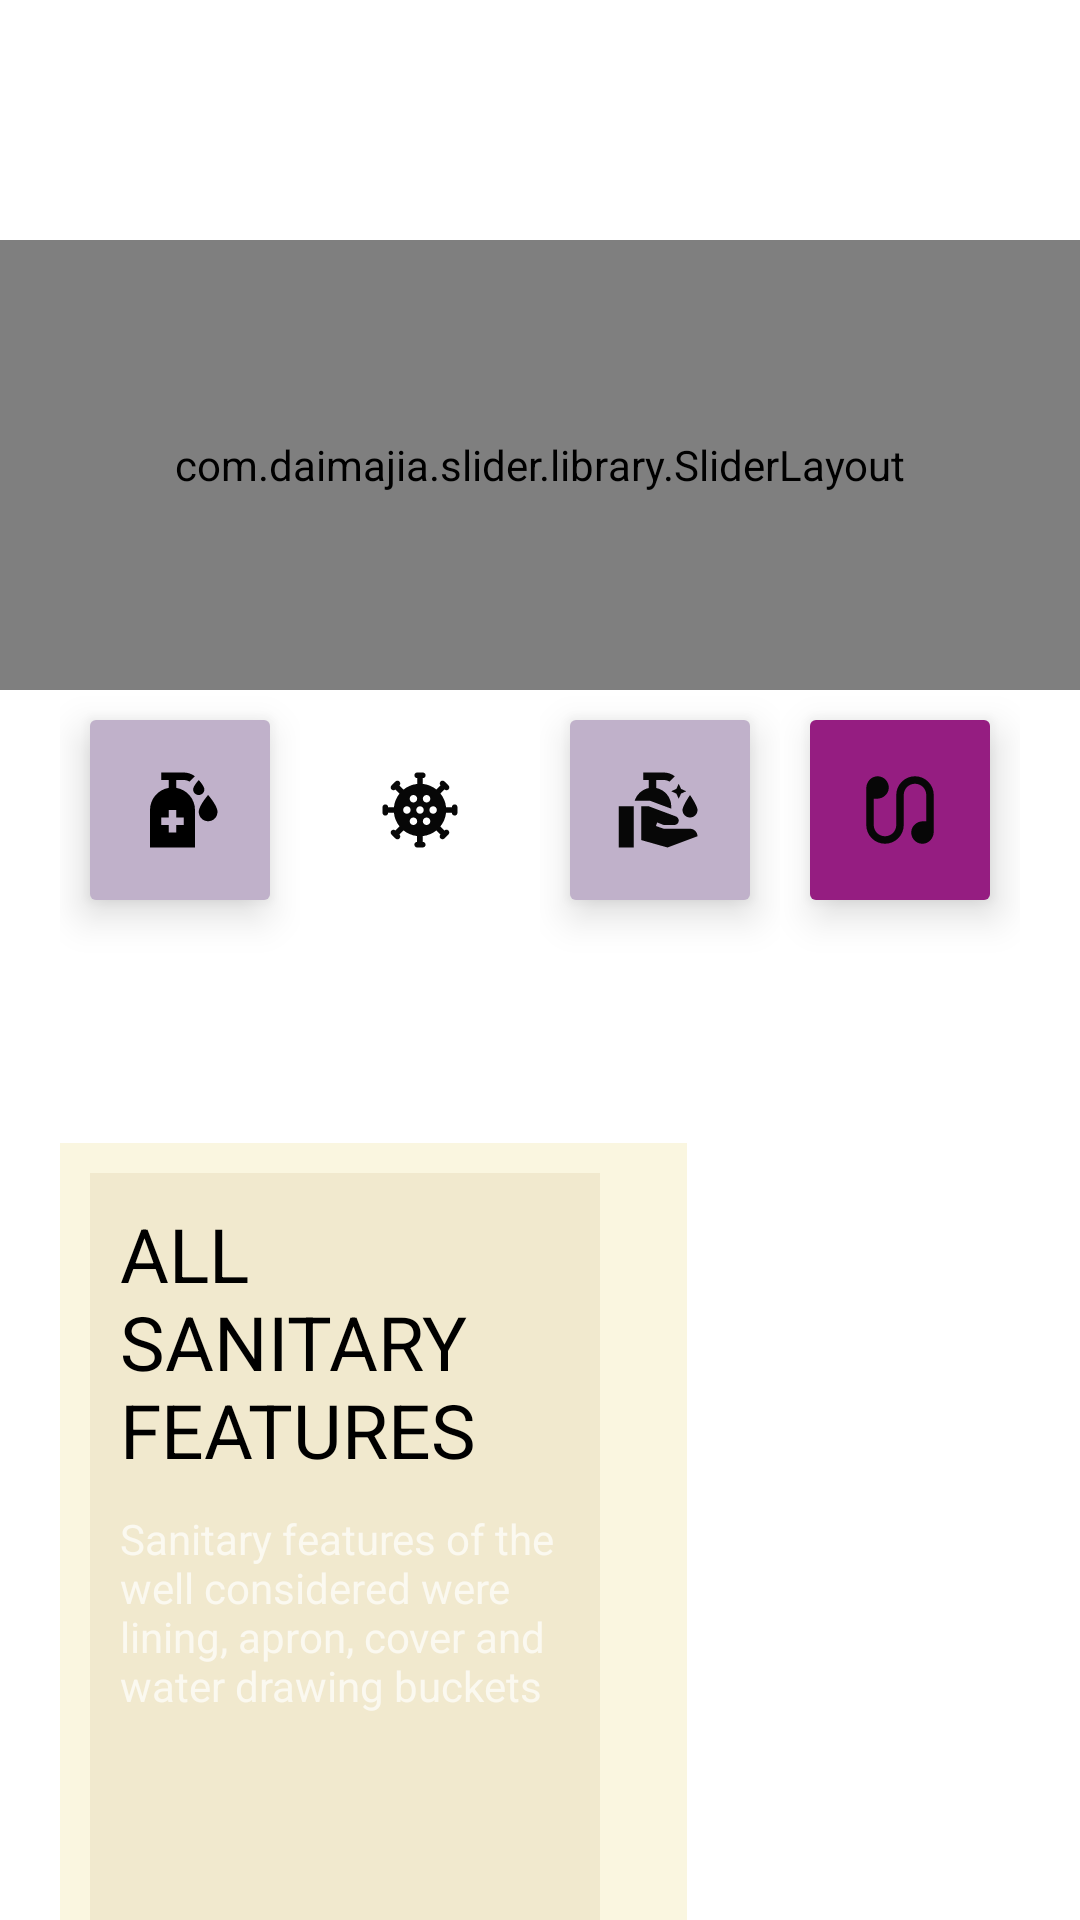

Icon click points for this 1080px×1920px phone screenshot, format [x,y]:
cleanhands: [658,810]
earbuds: [900,810]
